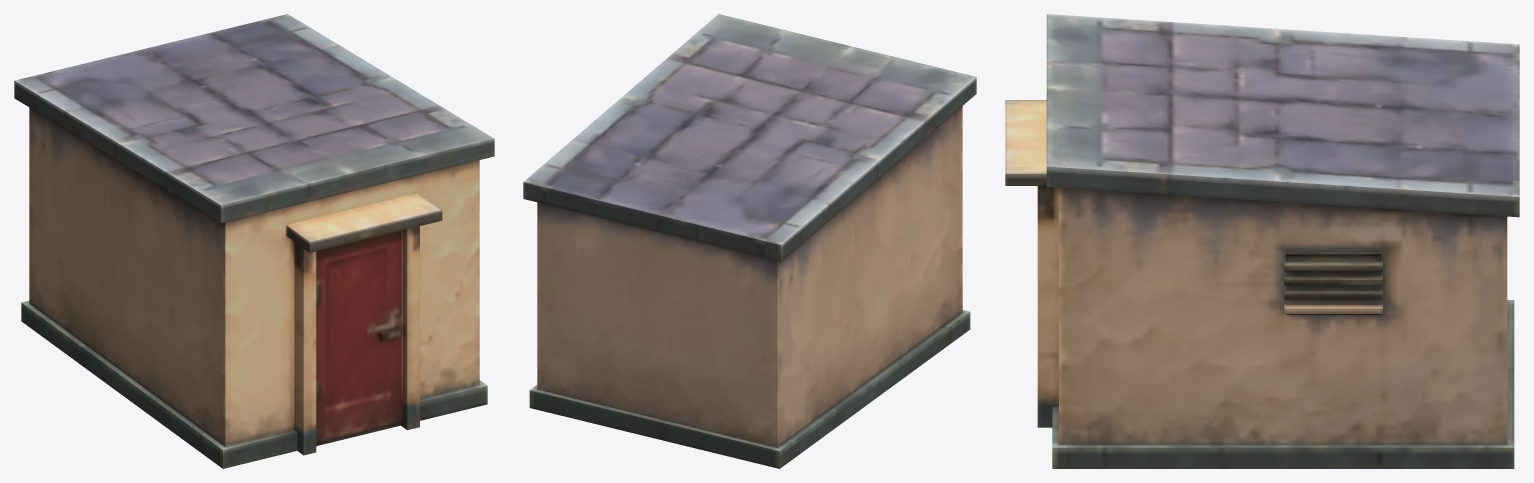
Rendered from RF_StairBulkhead.fbx.
The picture shows the model from 3 angles, left to right: view 1: azimuth 30°, elevation 25°; view 2: azimuth 150°, elevation 25°; view 3: azimuth 270°, elevation 25°; orthographic projection. The views are drawn at different scales.
Visible parts, largest first — view 1: RF_StairBulkhead; view 2: RF_StairBulkhead; view 3: RF_StairBulkhead.
Boxes of the visible parts, box(x1,y1,x2,y2) form: RF_StairBulkhead: box(14, 14, 494, 468); RF_StairBulkhead: box(523, 14, 976, 468); RF_StairBulkhead: box(1005, 14, 1519, 468).
Size of the model in its own units: 3.22 by 4.59 by 3.
Materials: 1 (1 with a texture image).
